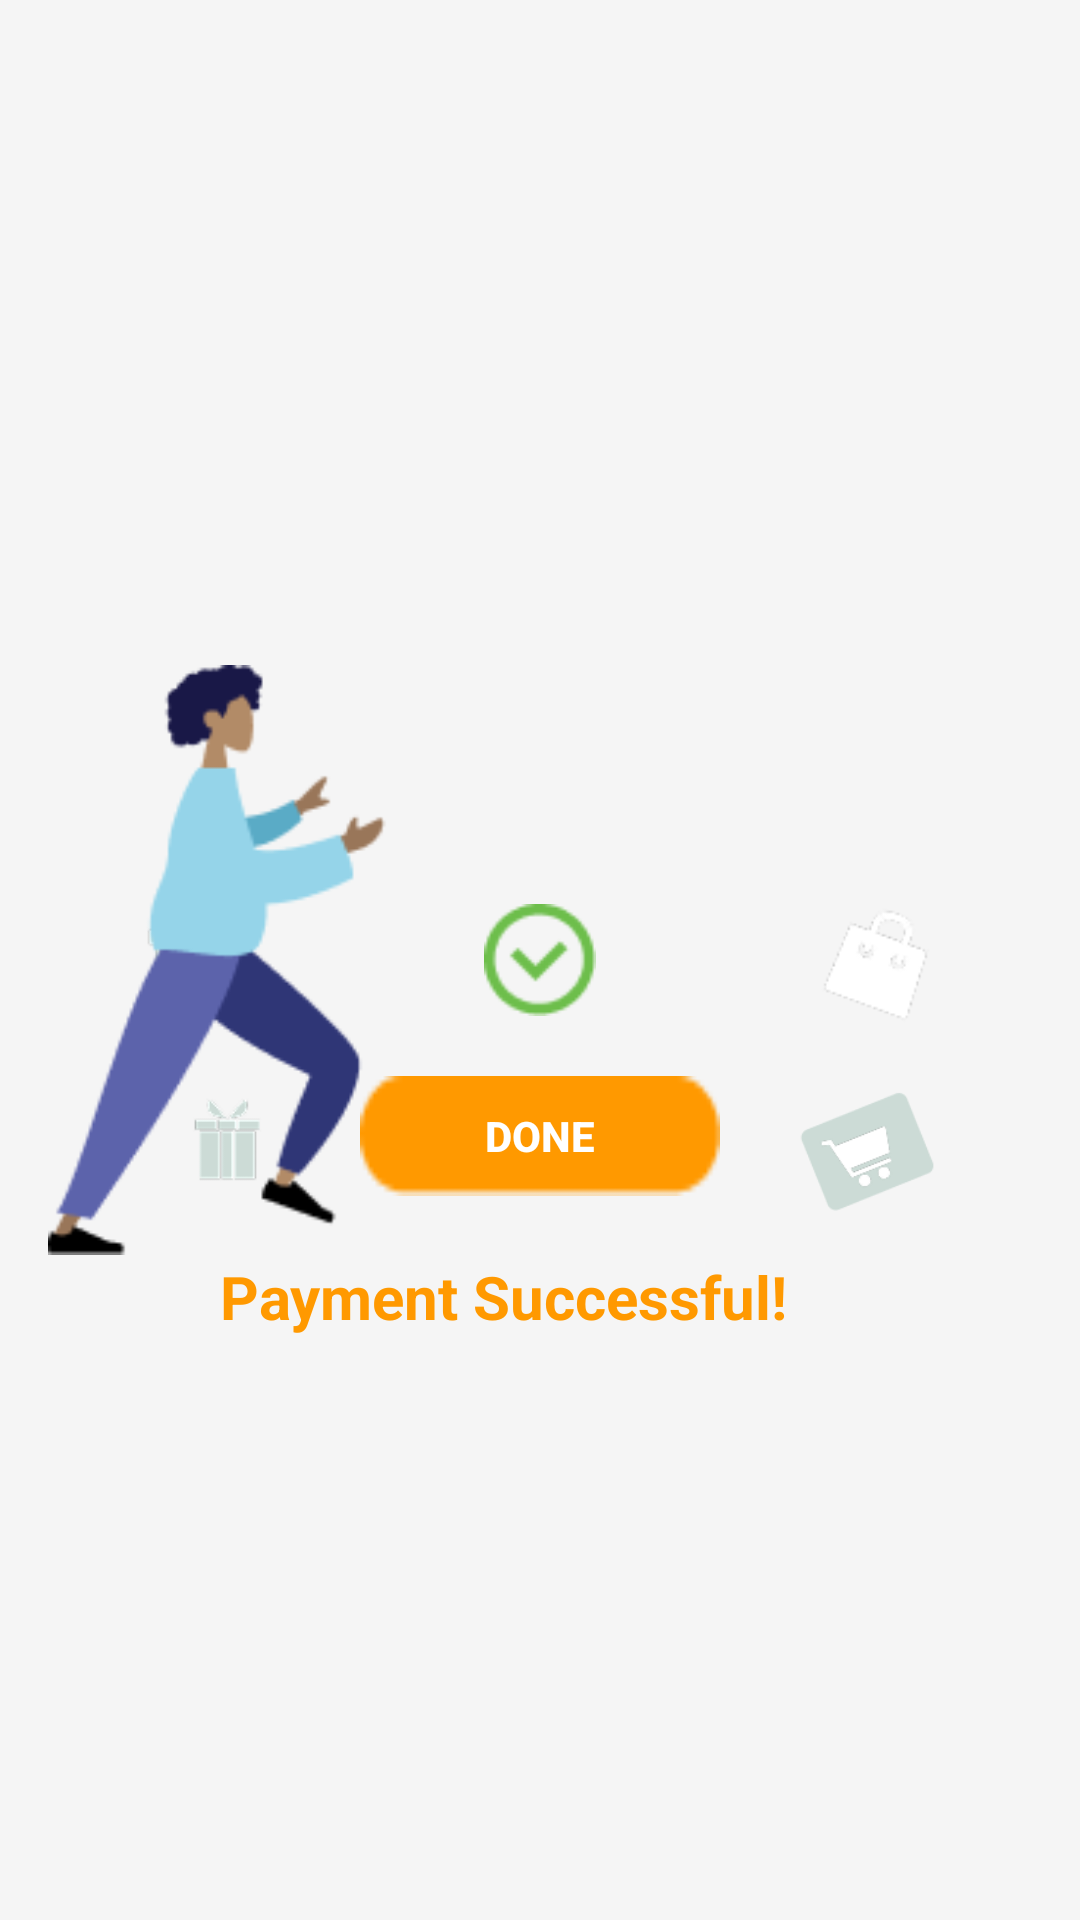

Point at icon controls on the screen. Image size 1080x1920, points as (x,y).
bag: (876,966)
cart: (867,1151)
success tick: (540,960)
